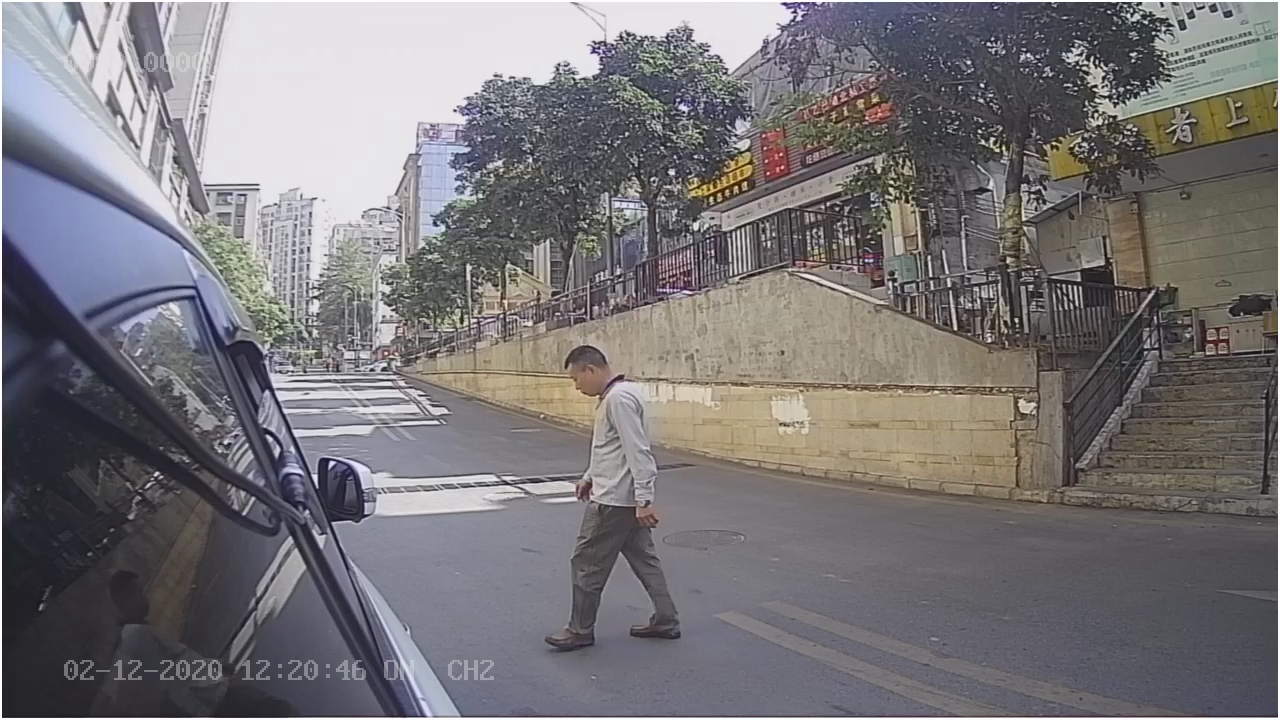person: (543, 334, 687, 653)
